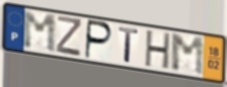H: (143, 29, 173, 72)
M: (21, 10, 58, 55), (169, 33, 206, 78)
P: (83, 18, 115, 61)
T: (117, 26, 140, 65)
Z: (55, 15, 83, 59)
